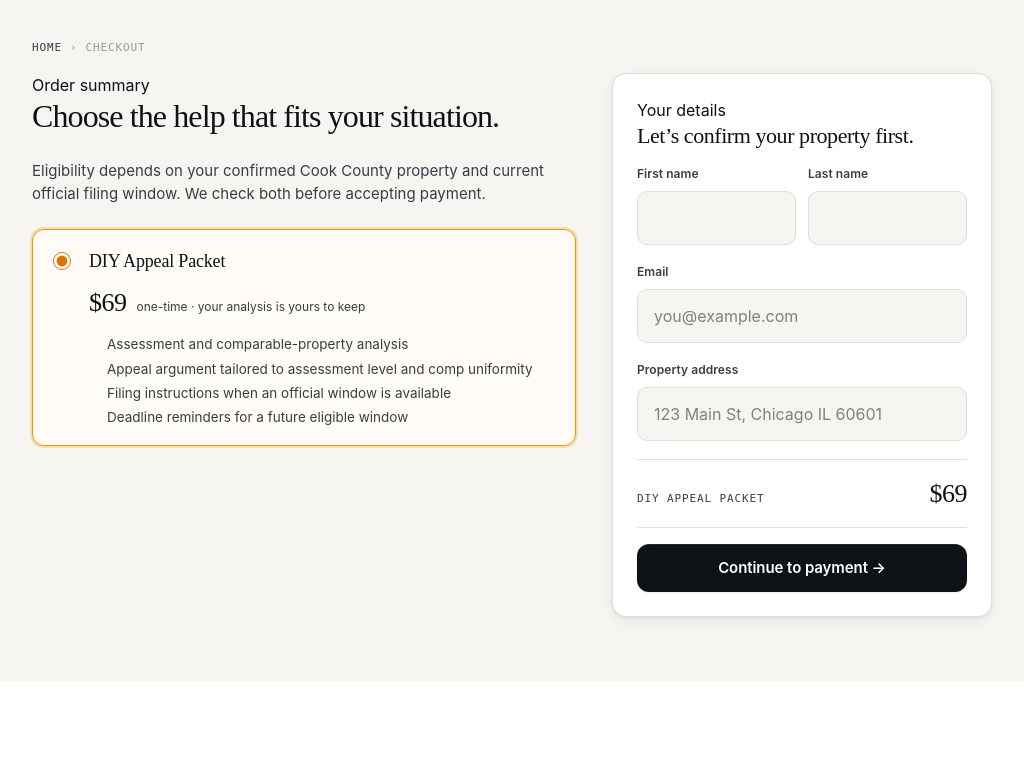
Test: OT checkout filing-window UI › records no begin_checkout when checkout creation fails
The width and height of the screenshot is (1024, 768).
In the field labelled "First name": (716, 218) [637, 191, 796, 245], type "Buyer"
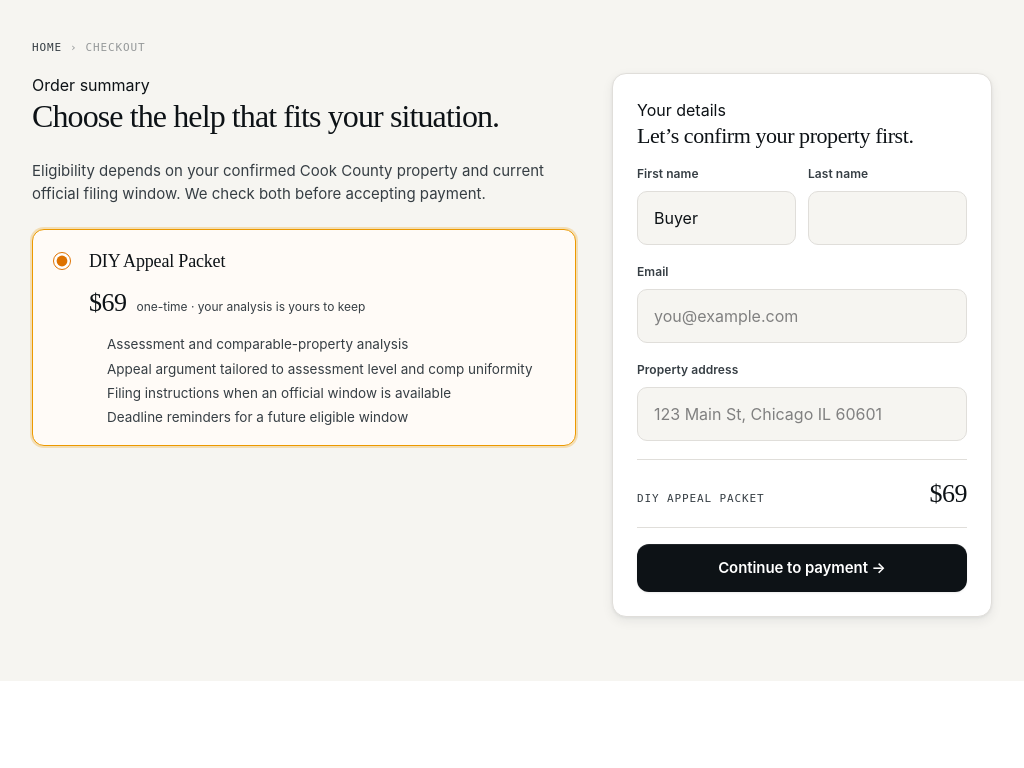
In the field labelled "Last name": (888, 218) [808, 191, 967, 245], type "Example"
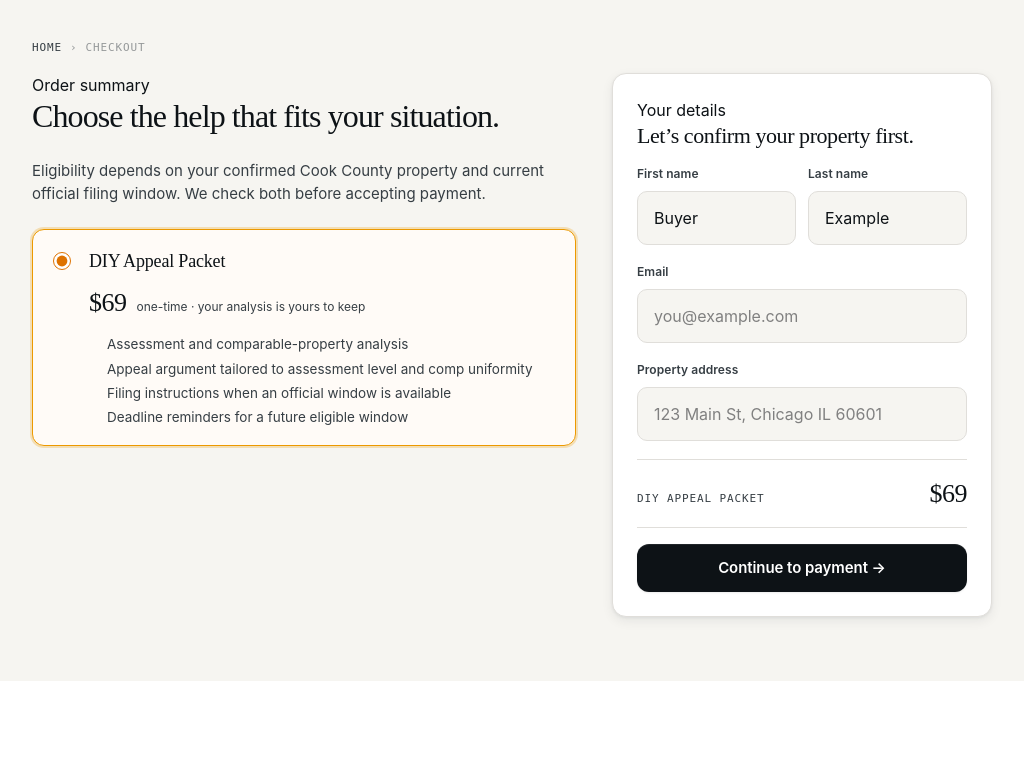
In the field labelled "Email": (802, 316) [637, 289, 967, 343], type "buyer@example.com"
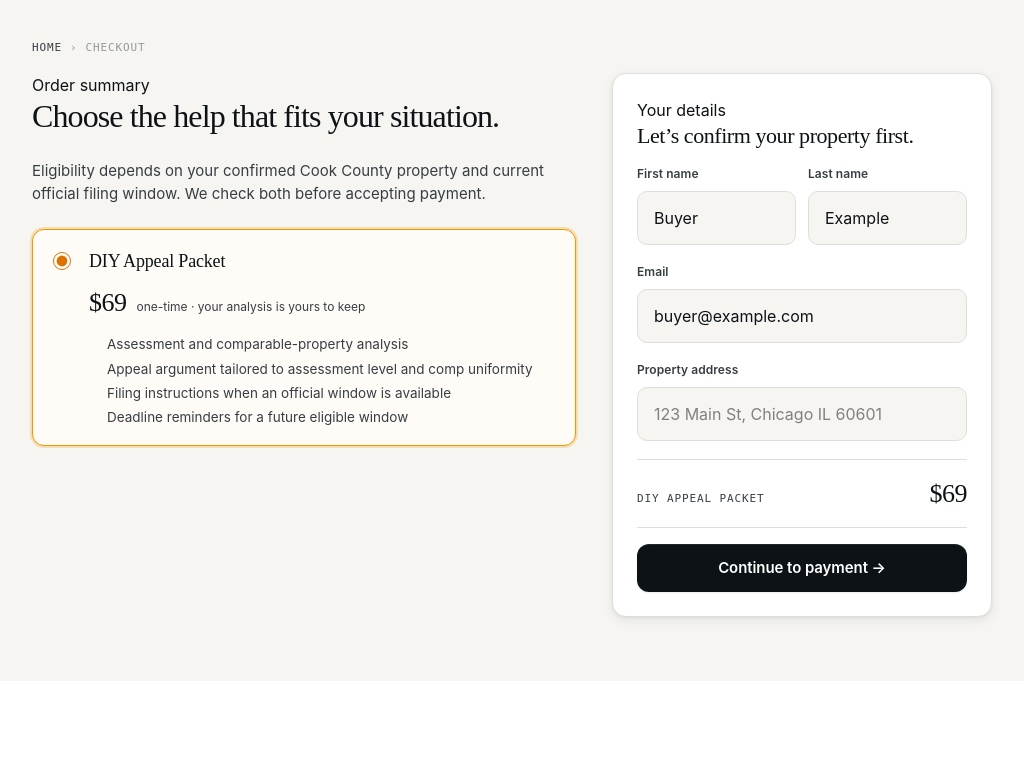
In the field labelled "Property address": (802, 414) [637, 387, 967, 441], type "2834 W Henderson St, Chicago IL 60618"
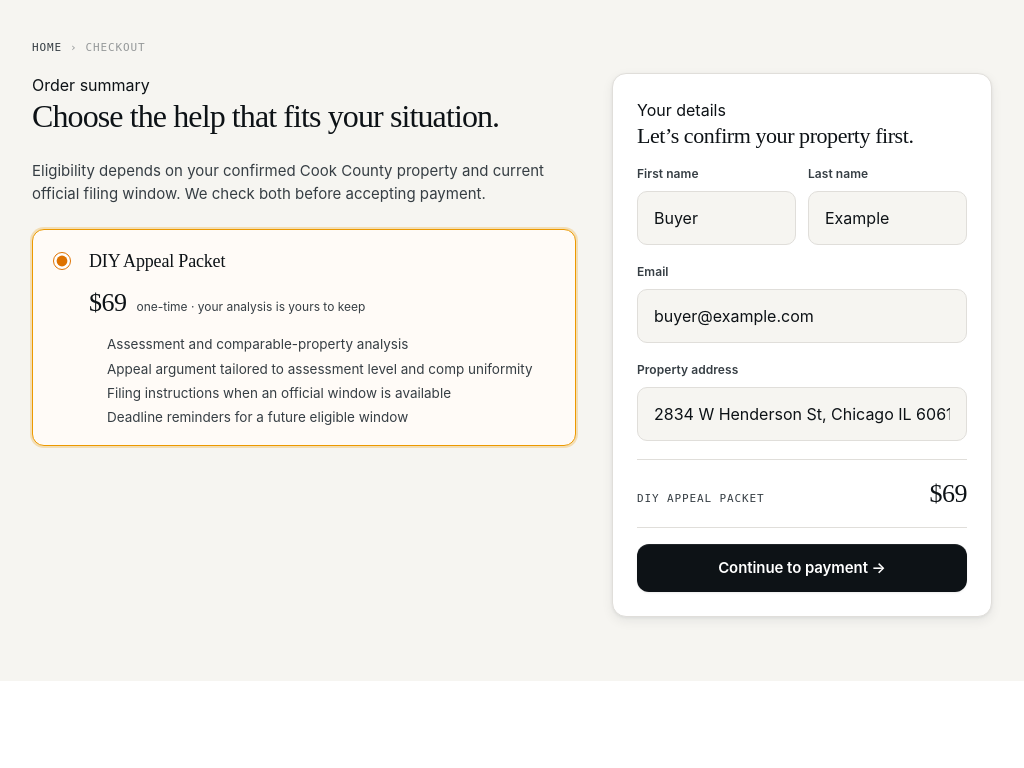
Click the button "Continue to payment →": (802, 568) [637, 544, 967, 592]
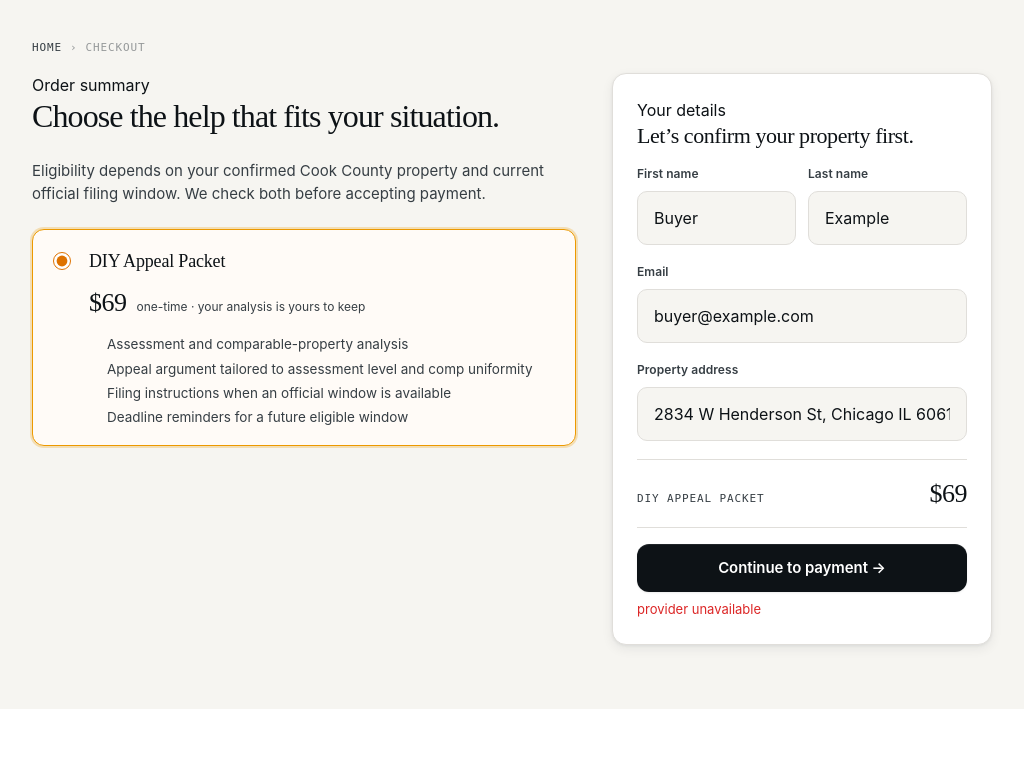
Now the text "provider unavailable" is shown, box [637, 601, 761, 617]
